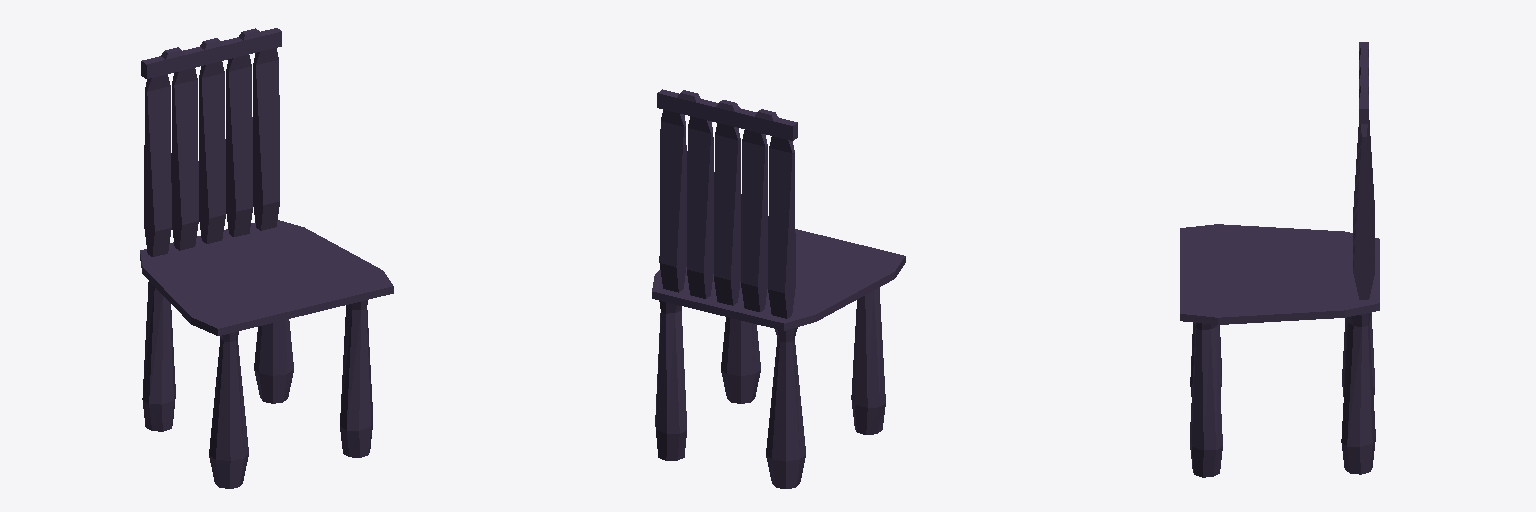
Rendered from ChairForSubstance.obj.
3 renders of one model, left to right at view 1: azimuth 30°, elevation 25°; view 2: azimuth 150°, elevation 25°; view 3: azimuth 270°, elevation 25°, orthographic.
Visible parts, largest first — view 1: ChairSeat Back2 Back1 Back3 Back4 Back5, ChairSeat, ChairSeat Leg2 Leg3 Leg Leg1, ChairSeat ChairTop; view 2: ChairSeat Back2 Back1 Back3 Back4 Back5, ChairSeat Leg2 Leg3 Leg Leg1, ChairSeat, ChairSeat ChairTop; view 3: ChairSeat, ChairSeat Leg2 Leg3 Leg Leg1, ChairSeat Back2 Back1 Back3 Back4 Back5, ChairSeat ChairTop.
Boxes of the visible parts, x1,y1,x2,y2 form: ChairSeat Back2 Back1 Back3 Back4 Back5: [144, 48, 279, 256]; ChairSeat: [140, 220, 393, 335]; ChairSeat Leg2 Leg3 Leg Leg1: [142, 281, 372, 488]; ChairSeat ChairTop: [141, 28, 281, 78]; ChairSeat Back2 Back1 Back3 Back4 Back5: [659, 110, 795, 318]; ChairSeat Leg2 Leg3 Leg Leg1: [655, 287, 885, 488]; ChairSeat: [652, 229, 905, 330]; ChairSeat ChairTop: [657, 89, 797, 140]; ChairSeat: [1180, 224, 1379, 324]; ChairSeat Leg2 Leg3 Leg Leg1: [1190, 312, 1375, 477]; ChairSeat Back2 Back1 Back3 Back4 Back5: [1353, 120, 1374, 299]; ChairSeat ChairTop: [1359, 42, 1368, 123].
Bounding box in the file's own units: 6.01 × 11.07 × 5.42.